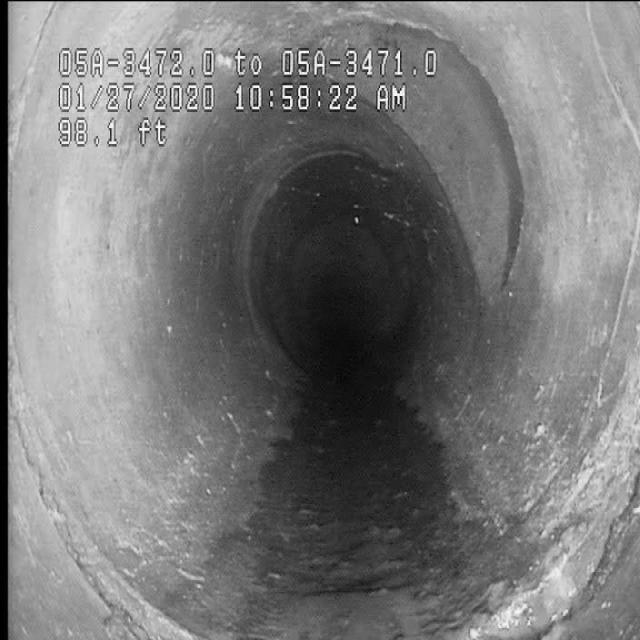Fracture: (12, 364, 170, 632)
